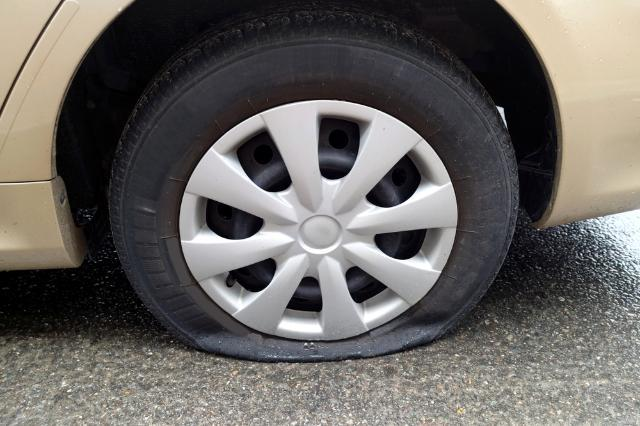tire flat: (108, 0, 522, 362)
